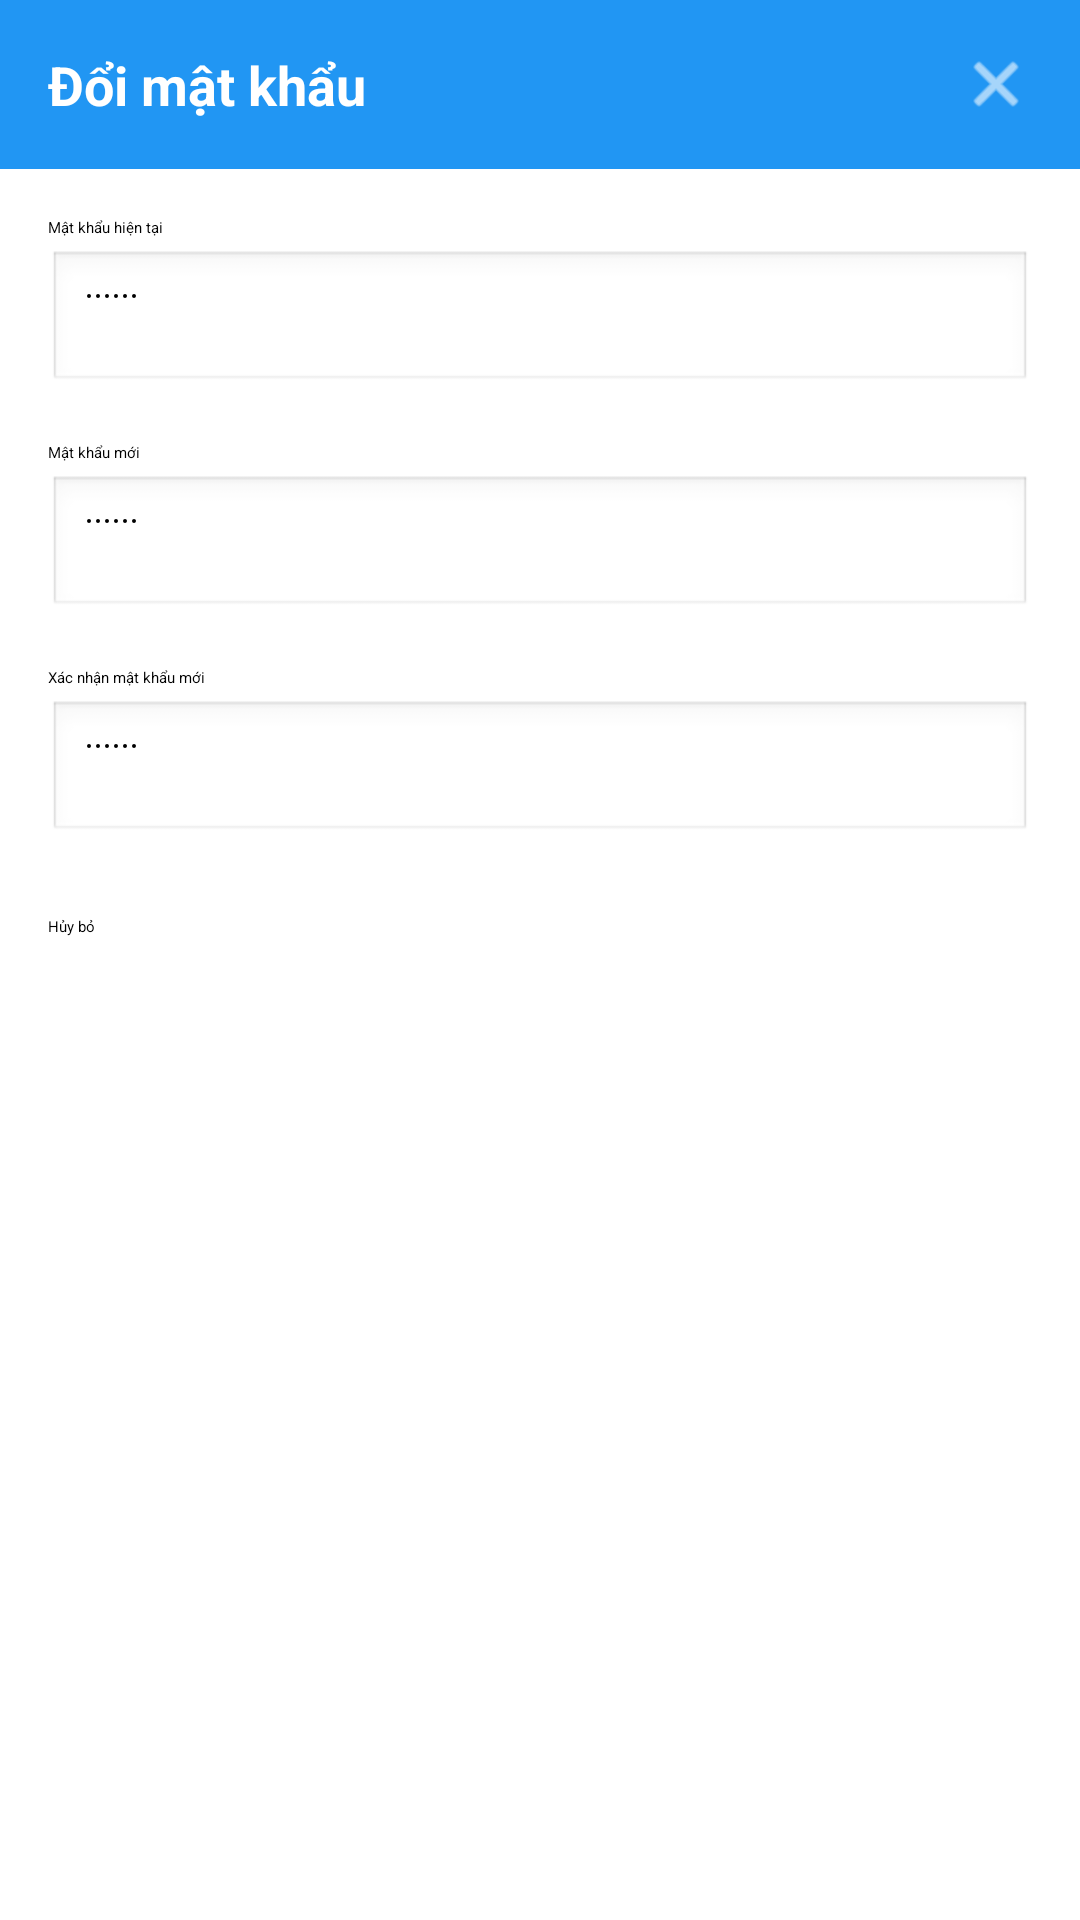

Icons on this 1080w x 1920h Android screen, each with the point to tap as (x,y):
Close: (996,84)
